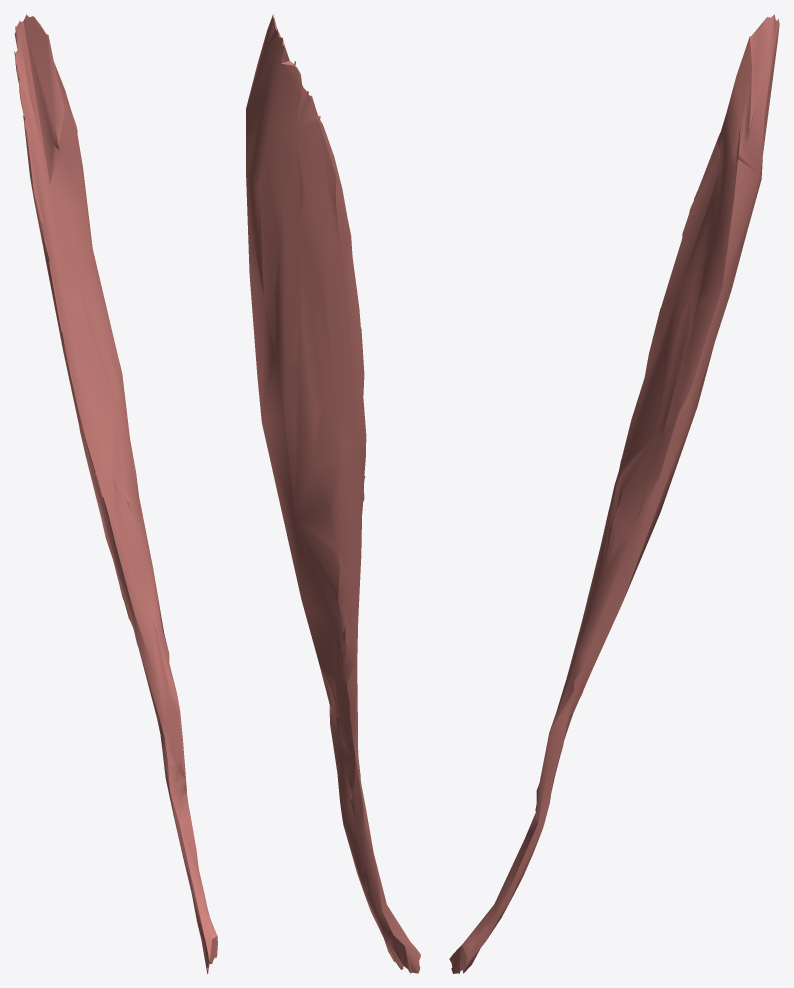
Rendered from fma38508_fj1517m.glb.
The picture shows the model from 3 angles, left to right: view 1: azimuth 30°, elevation 25°; view 2: azimuth 150°, elevation 25°; view 3: azimuth 270°, elevation 25°; orthographic projection. The views are drawn at different scales.
Visible parts, largest first — view 1: FMA38508_FJ1517M; view 2: FMA38508_FJ1517M; view 3: FMA38508_FJ1517M.
Part boxes in pixels (box(x1,y1,x2,y2)): FMA38508_FJ1517M: box(14, 14, 217, 973); FMA38508_FJ1517M: box(246, 14, 420, 973); FMA38508_FJ1517M: box(449, 14, 779, 973).
Bounding box in the file's own units: 0.0168 × 0.1828 × 0.0581.
